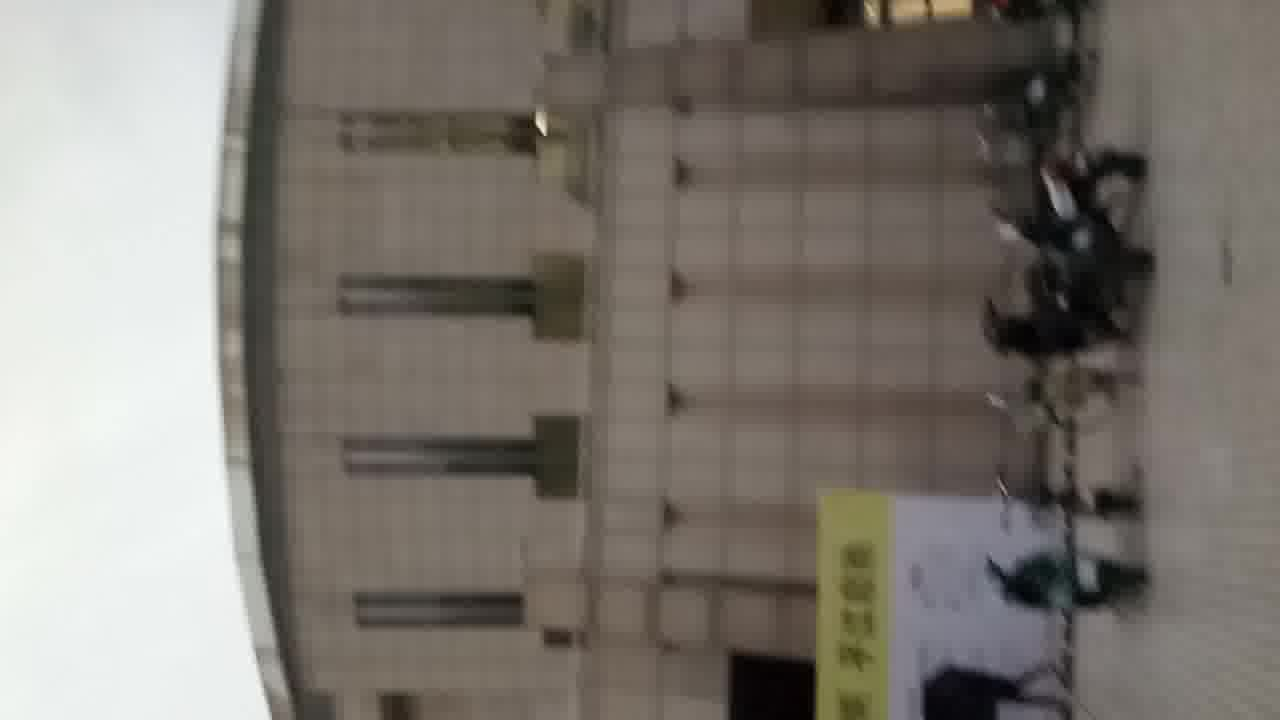zhongtiww: (206, 10, 1061, 720)
